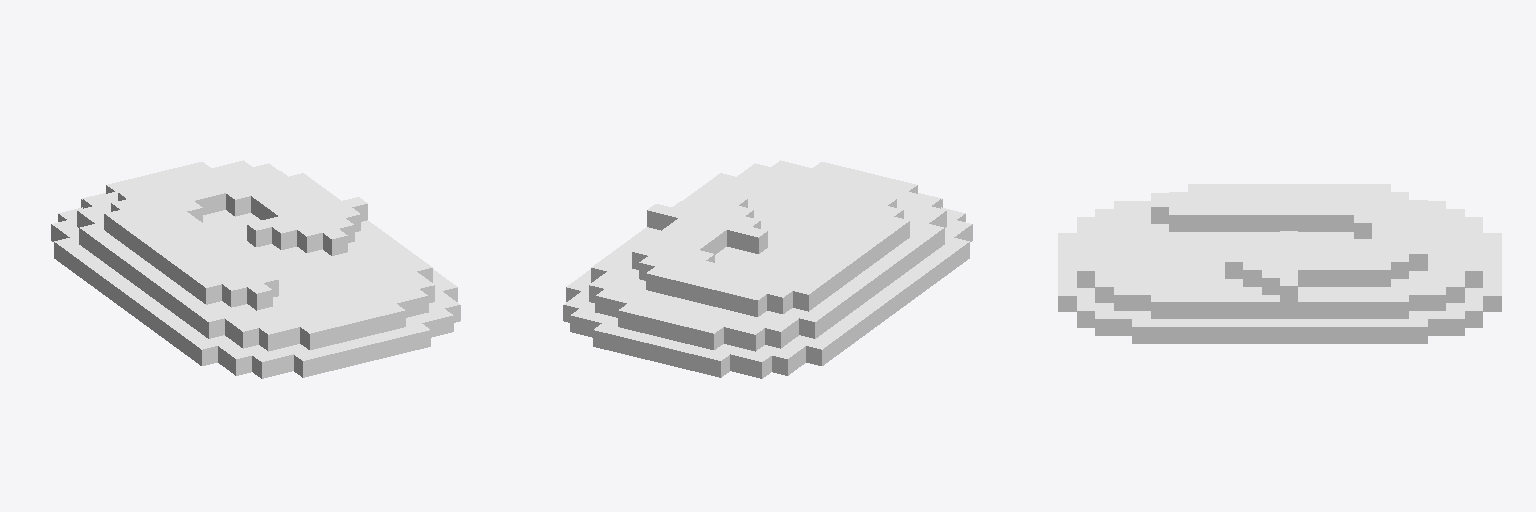
File: turnInverse.obj
The picture shows the model from 3 angles: view 1: azimuth 30°, elevation 25°; view 2: azimuth 150°, elevation 25°; view 3: azimuth 270°, elevation 25°; orthographic projection.
Parts seen in each view (by area): view 1: ObjObject.014; view 2: ObjObject.014; view 3: ObjObject.014.
Part boxes in pixels (x1,y1,x2,y2): ObjObject.014: (51,160,460,378); ObjObject.014: (563,160,972,378); ObjObject.014: (1058,184,1501,343).
Size of the model in its own units: 1.6 by 0.3 by 2.4.